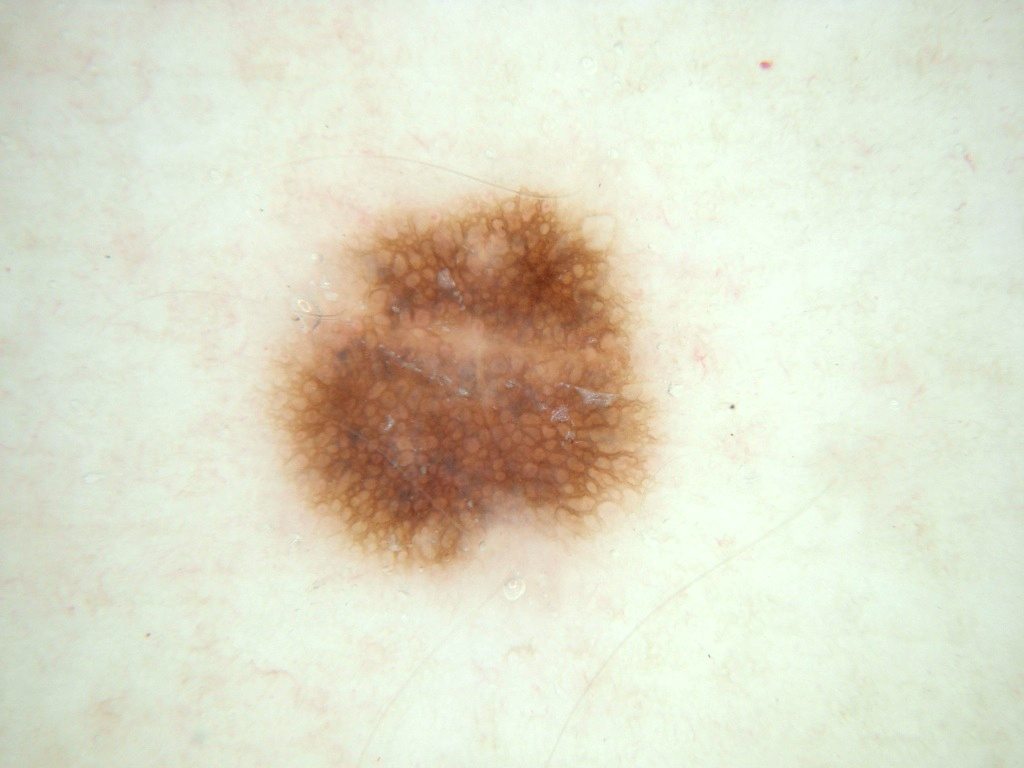Detected Lesion: (263, 181, 669, 576)
